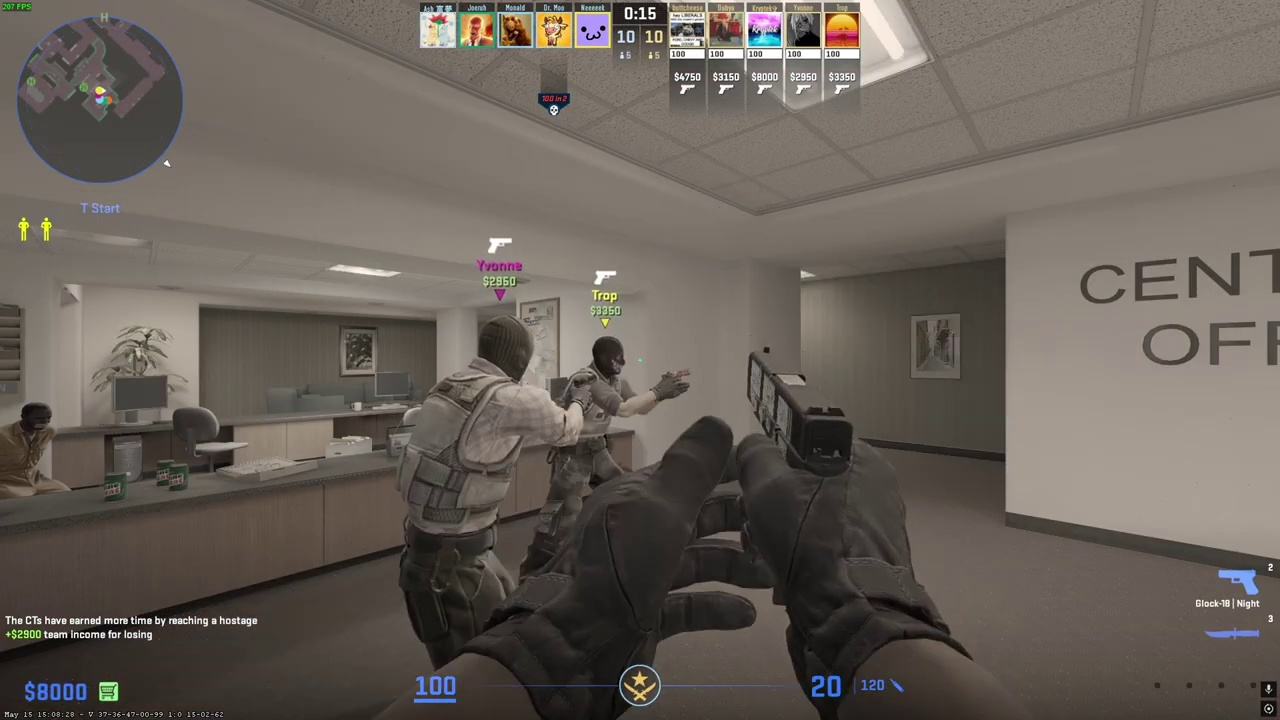Terrorist: (395, 315, 552, 639), (545, 336, 634, 501)
